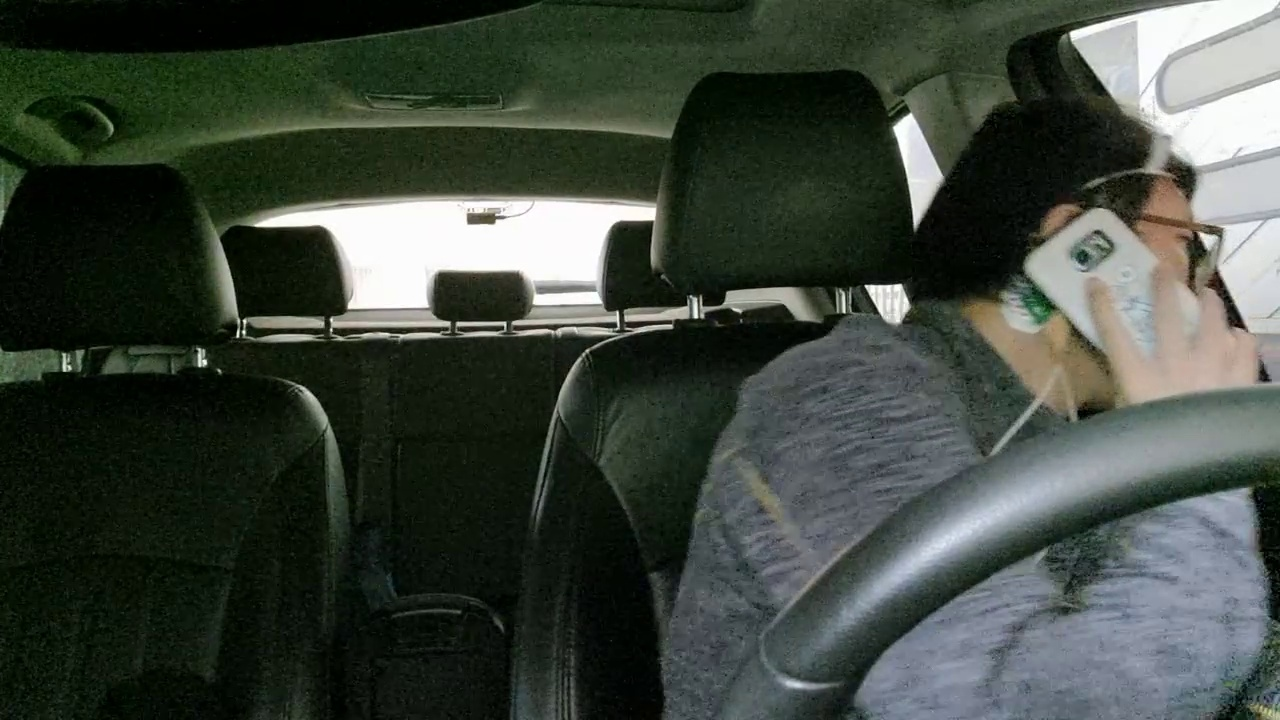phone: (1002, 175, 1210, 417)
